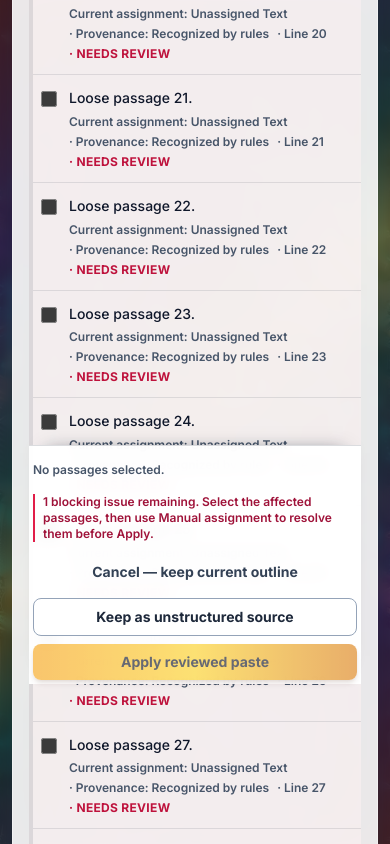
Test: WriterOutlinePasteReview › integrates mobile selection actions into the single sticky footer without competing bottom layers
(page scrolled)
Click the checkbox labelled "Loose passage 24.".
click(49, 422)  # box [41,414,57,430]
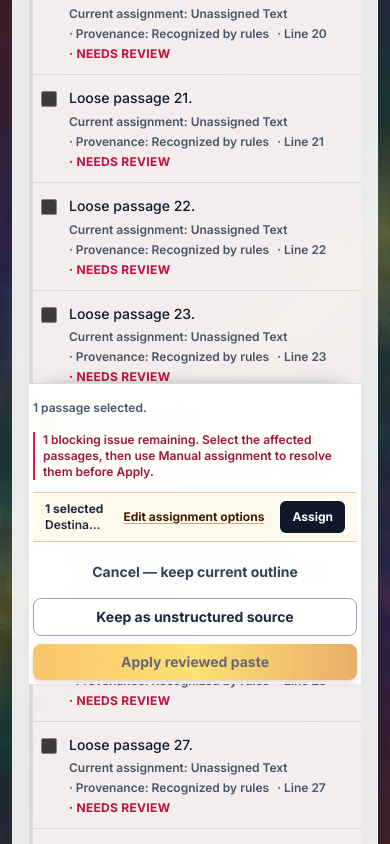
Result: the text "1 selected" is shown at [45,501,103,517]
Result: the text "Destination: Notes" is shown at [45,517,103,533]
Result: the button with aria-label "Assign selected passages from mobile action bar" is enabled at [280,501,345,533]
